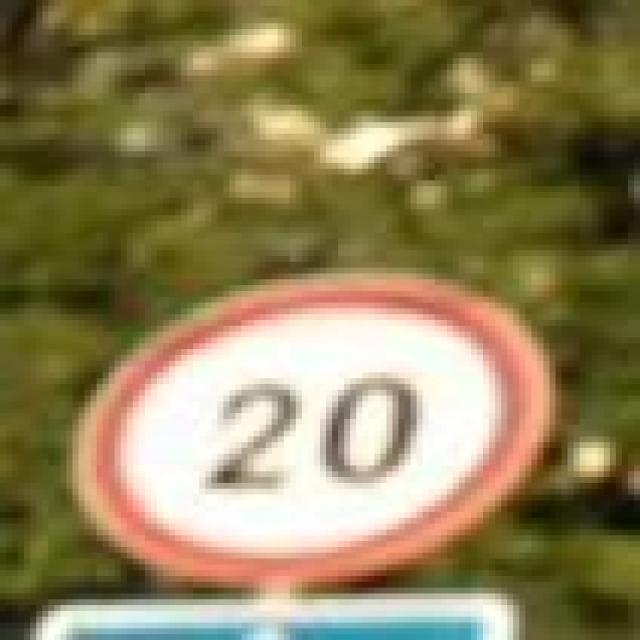forb_speed_over_20: (73, 268, 556, 588)
